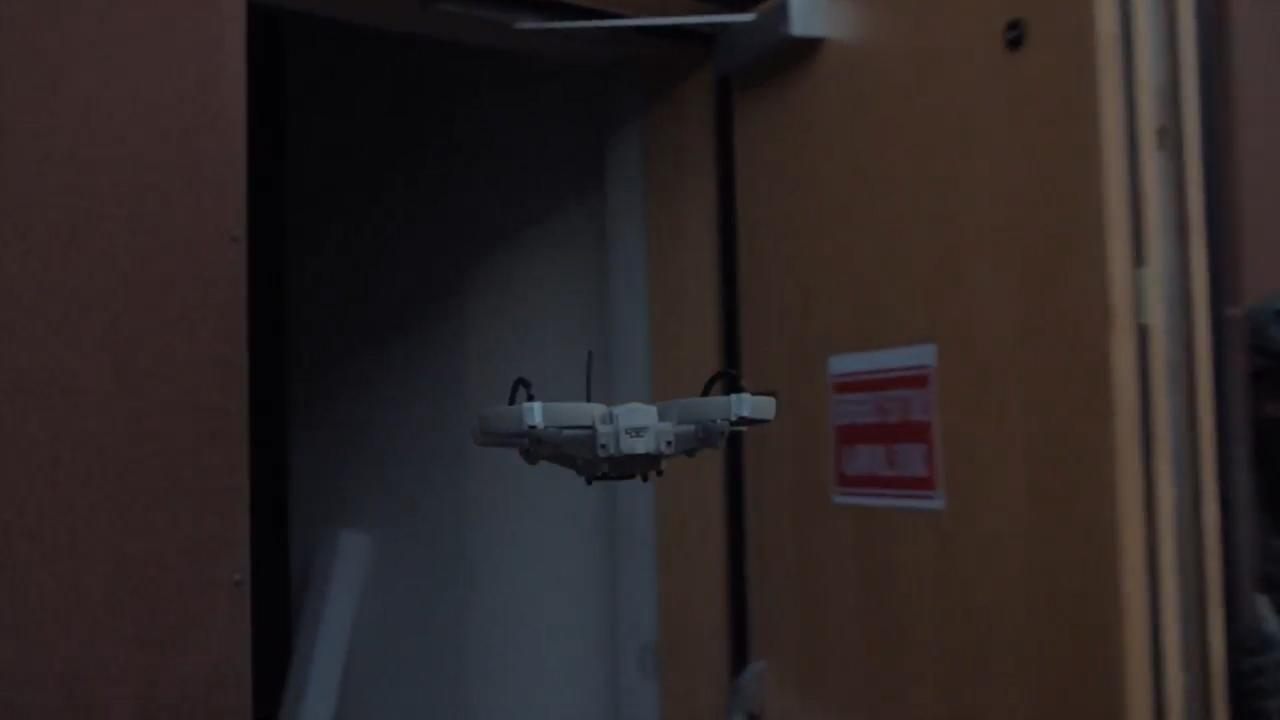Drone: (458, 334, 794, 501)
